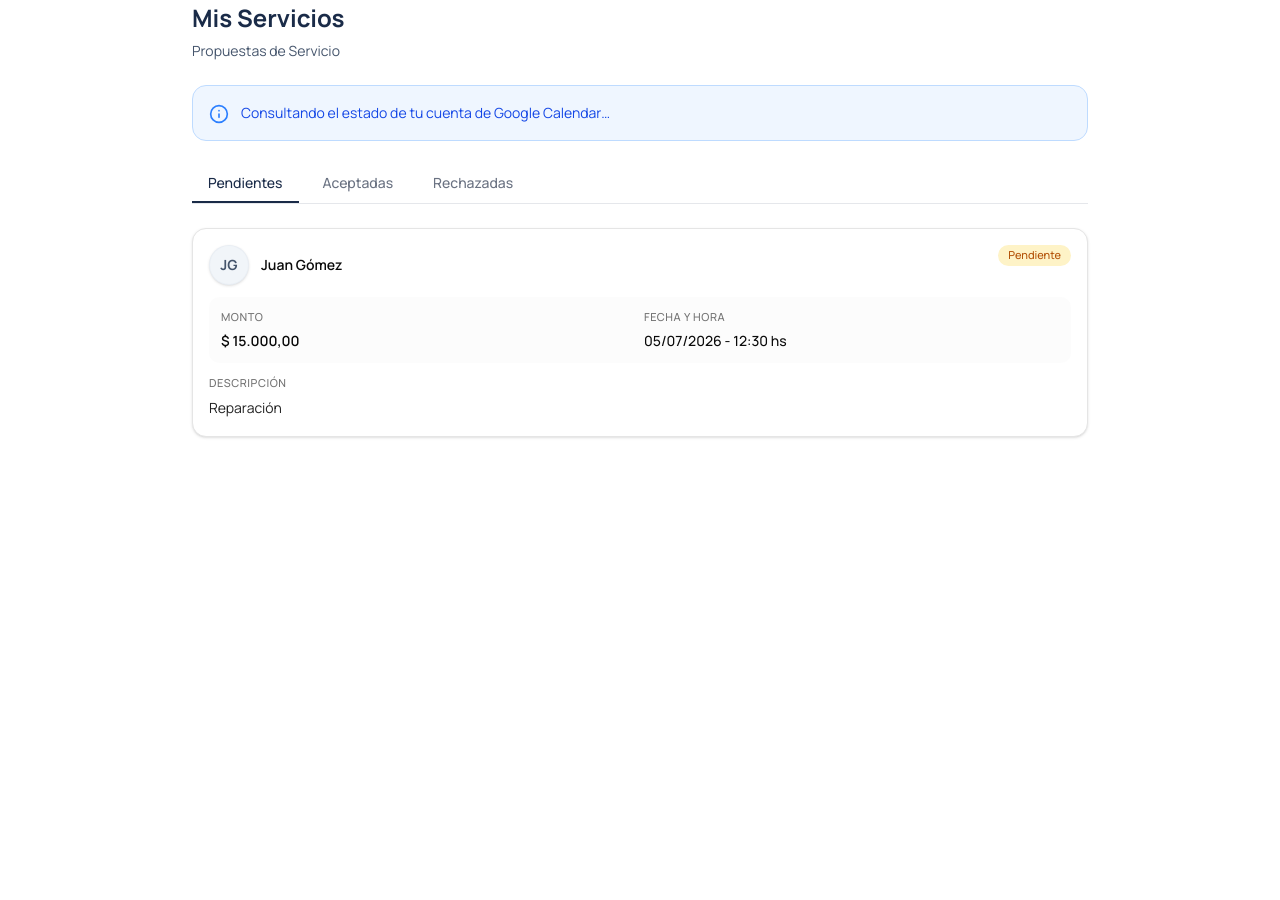
ProposalHistoryView › updates the open proposal detail when realtime refresh returns a newer proposal
This screenshot has width=1280, height=900.
Step 1. Click the button with test id "proposal-card" → point(640, 332), box [192,228,1088,437]
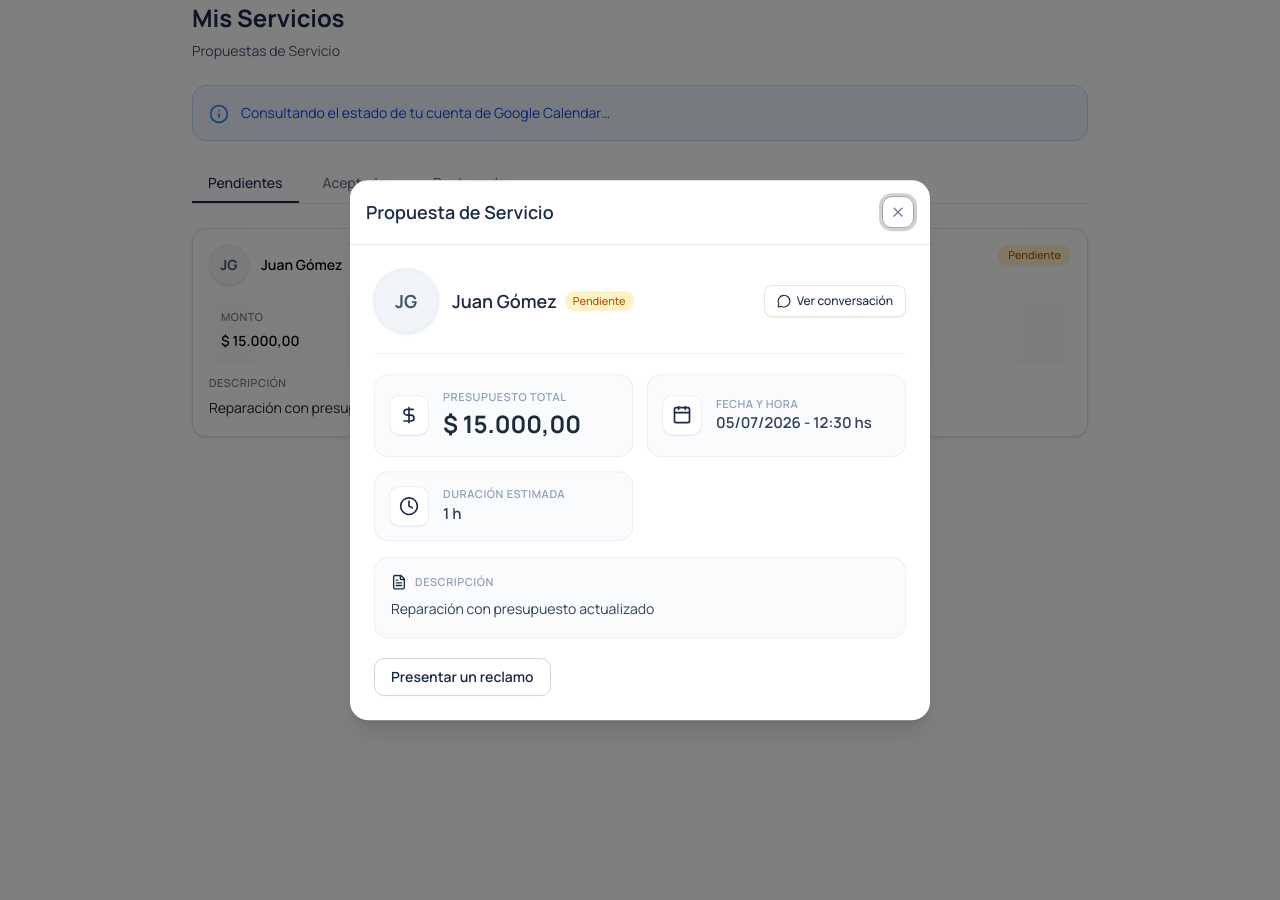
Expected: the text "Reparación con presupuesto actualizado" is shown, [391,599,654,618]
